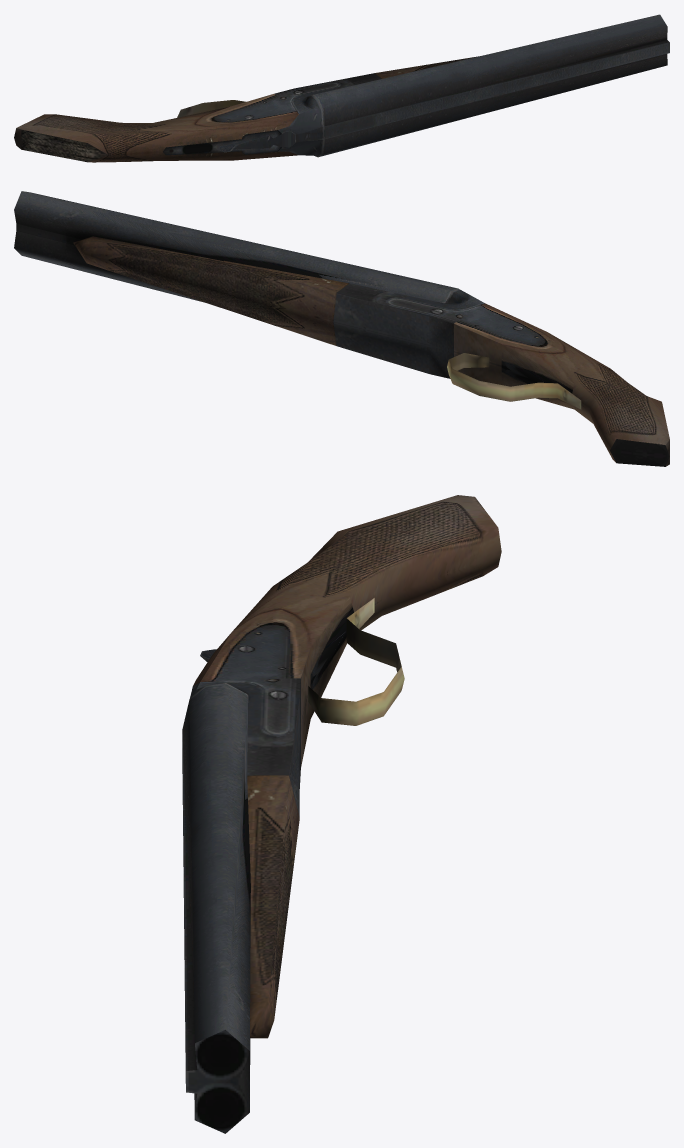
The model's file is weapon_usa_db_shotgun_sawed_LOD21.obj.
3 views of the same model, one above another, from view 1: azimuth 30°, elevation 25°; view 2: azimuth 150°, elevation 25°; view 3: azimuth 270°, elevation 25° (orthographic). The views are drawn at different scales.
Parts seen in each view (by area): view 1: TomGroup_0, TomGroup_1; view 2: TomGroup_0, TomGroup_1; view 3: TomGroup_0, TomGroup_1.
Boxes of the visible parts, x1,y1,x2,y2 form: TomGroup_0: [163, 14, 669, 157]; TomGroup_1: [14, 56, 478, 162]; TomGroup_0: [14, 191, 669, 466]; TomGroup_1: [73, 236, 669, 466]; TomGroup_0: [182, 598, 404, 1133]; TomGroup_1: [193, 495, 501, 1038].
Size of the model in its own units: 51.65 by 5.08 by 12.23.
1 material, 1 textured.
